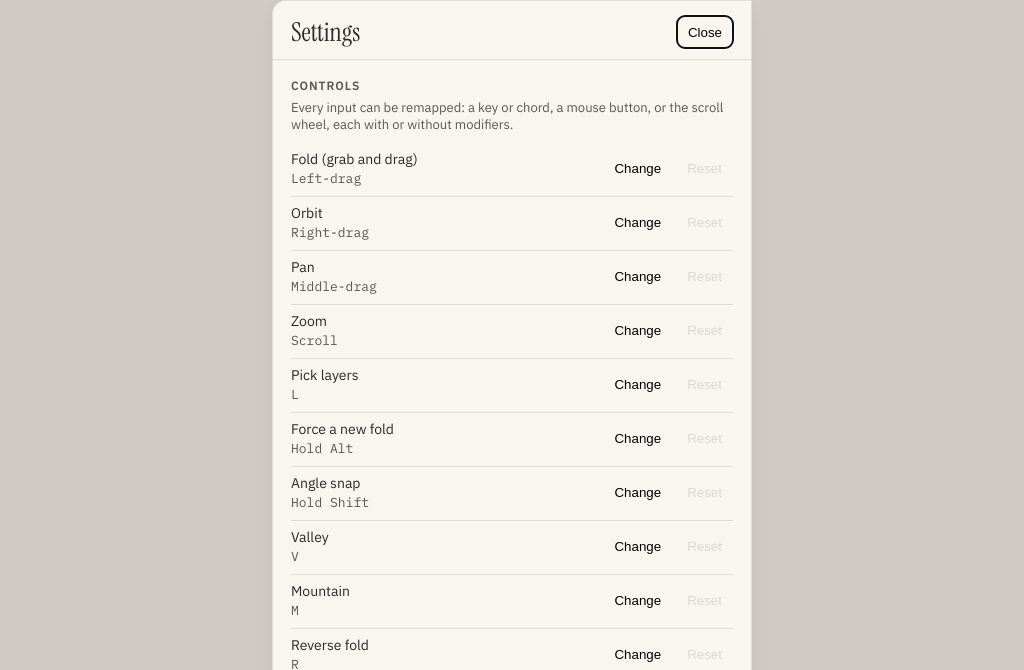
it: settings sheet: controls › angle snap captures a held modifier
This screenshot has width=1024, height=670.
Click the button with aria-label "Change Angle snap".
click(638, 492)  # box [604,476,672,508]
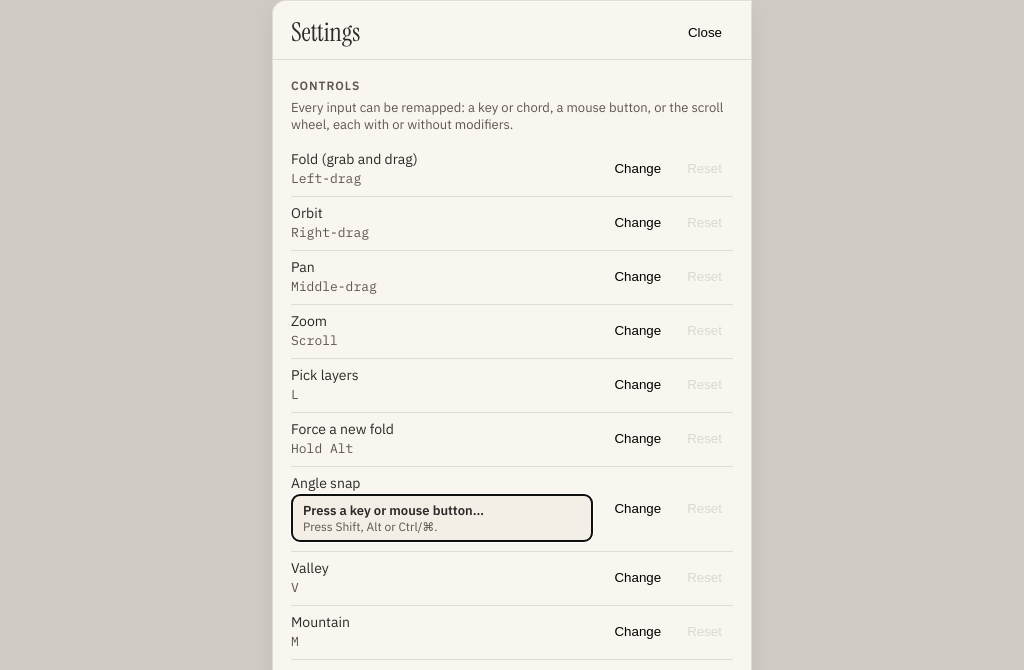
Press Alt in the element showing "Press a key or mouse button… Press Shift, Alt or Ctrl/⌘.", box [291,494,594,542]
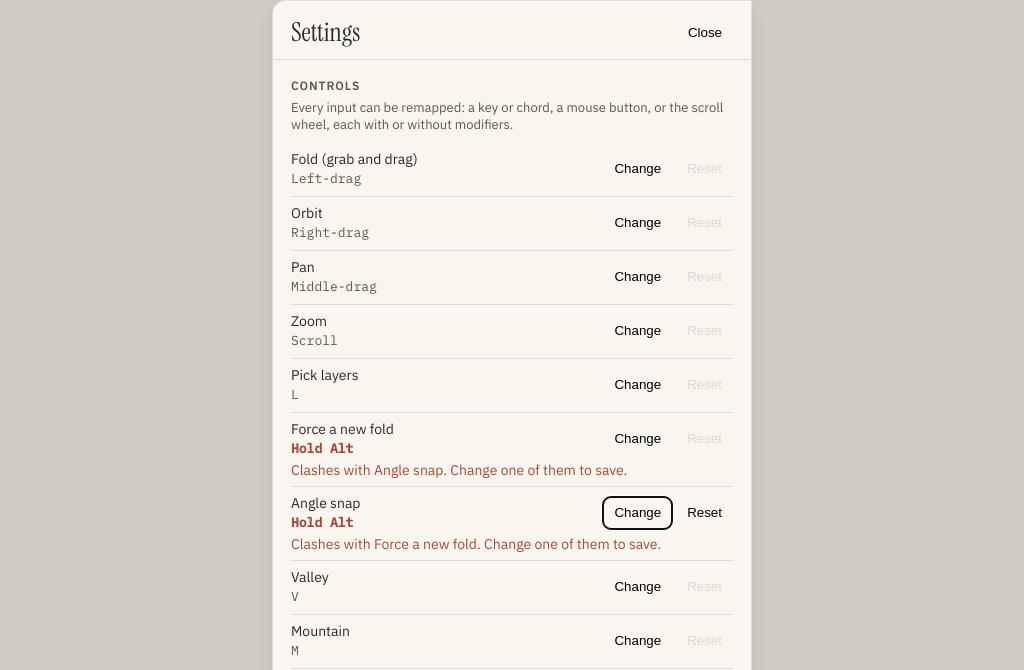
Now the 2nd text "Hold Alt" is shown, box [291,514,353,531]
